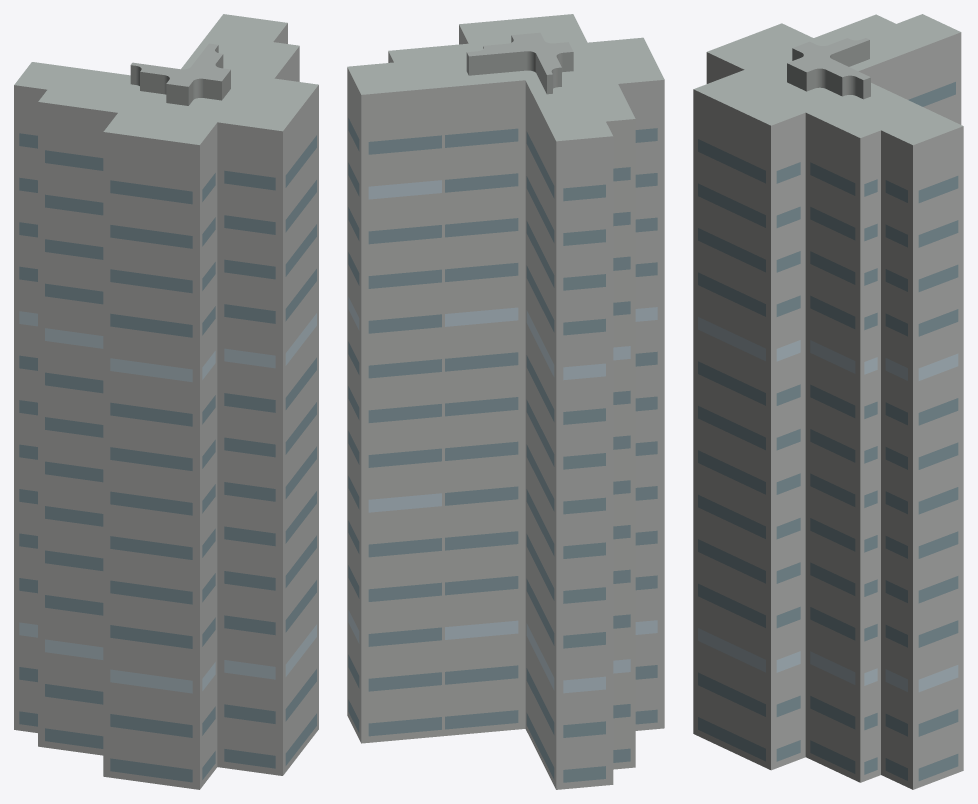
Rendered from fallback-dmc-parkview-xi-completion-218.glb.
The picture shows the model from 3 angles, left to right: view 1: azimuth 30°, elevation 25°; view 2: azimuth 150°, elevation 25°; view 3: azimuth 270°, elevation 25°; orthographic projection.
Visible parts, largest first — view 1: fallback-dmc-parkview-xi-completion-218; view 2: fallback-dmc-parkview-xi-completion-218; view 3: fallback-dmc-parkview-xi-completion-218.
Part boxes in pixels (left/top/right/bottom): fallback-dmc-parkview-xi-completion-218: left=14, top=14, right=318, bottom=789; fallback-dmc-parkview-xi-completion-218: left=347, top=14, right=664, bottom=789; fallback-dmc-parkview-xi-completion-218: left=693, top=14, right=963, bottom=789.
Size of the model in its own units: 35.21 by 83 by 30.61.
